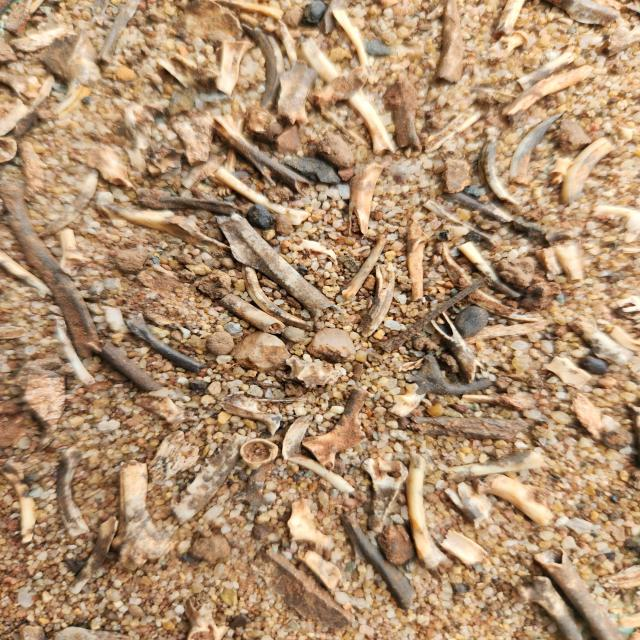fossil: (2, 179, 101, 360), (216, 209, 340, 320), (531, 543, 636, 640), (376, 272, 496, 354), (247, 544, 358, 630), (434, 240, 544, 324), (206, 113, 315, 197), (339, 507, 420, 614), (170, 431, 254, 525), (26, 23, 104, 118), (102, 200, 232, 255), (114, 456, 172, 571), (301, 386, 374, 472), (211, 167, 314, 227), (14, 357, 73, 455), (497, 64, 598, 120), (409, 316, 556, 354), (403, 449, 449, 570), (474, 472, 569, 530), (510, 573, 590, 640), (124, 312, 208, 374), (240, 258, 312, 330), (35, 163, 102, 239), (426, 309, 489, 384), (401, 349, 497, 398), (506, 111, 568, 186), (439, 445, 558, 482), (558, 135, 618, 208), (340, 82, 396, 160), (88, 338, 164, 395), (238, 20, 286, 110), (67, 516, 120, 597), (338, 161, 390, 242), (456, 241, 525, 302), (357, 455, 410, 534), (330, 8, 383, 86), (419, 198, 501, 248), (400, 413, 536, 443), (0, 69, 59, 138), (240, 253, 316, 306), (45, 312, 97, 389), (514, 42, 588, 94), (571, 390, 633, 452), (90, 0, 146, 68), (564, 315, 634, 366), (477, 125, 520, 208), (339, 233, 390, 302), (208, 102, 245, 196), (353, 261, 397, 340), (272, 56, 318, 130), (0, 462, 41, 545), (54, 452, 92, 541), (383, 79, 425, 157), (132, 185, 240, 215), (146, 430, 203, 486), (430, 0, 467, 85), (283, 453, 359, 494), (458, 374, 547, 409), (436, 184, 513, 224), (283, 494, 337, 551), (217, 291, 283, 335), (402, 214, 433, 307), (215, 398, 286, 437), (428, 104, 486, 150), (294, 542, 346, 593), (133, 392, 202, 430), (0, 247, 52, 297), (155, 54, 226, 88), (436, 528, 492, 571), (86, 145, 136, 193), (480, 28, 538, 68), (124, 100, 156, 172), (316, 132, 362, 182), (550, 236, 588, 296), (178, 590, 223, 640), (282, 152, 348, 186), (383, 378, 436, 420), (587, 201, 640, 243), (216, 35, 250, 100), (281, 352, 344, 387), (545, 0, 626, 27), (294, 39, 340, 86), (542, 352, 595, 391), (6, 25, 78, 53), (507, 214, 574, 244), (172, 118, 212, 166), (205, 0, 288, 22), (3, 0, 45, 43), (179, 151, 224, 189), (282, 412, 316, 462), (56, 228, 90, 277), (183, 533, 232, 567), (593, 22, 640, 57), (490, 0, 530, 40), (237, 437, 283, 471), (0, 66, 43, 101), (439, 154, 476, 194), (316, 0, 354, 38), (197, 328, 239, 362), (194, 267, 233, 300), (112, 245, 154, 275), (599, 562, 640, 590), (0, 25, 22, 64), (0, 134, 22, 172), (534, 247, 558, 279), (409, 336, 440, 354), (434, 353, 461, 372)
